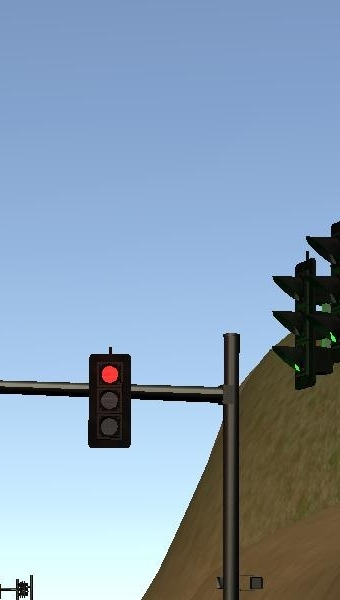Red: (89, 352, 131, 447)
